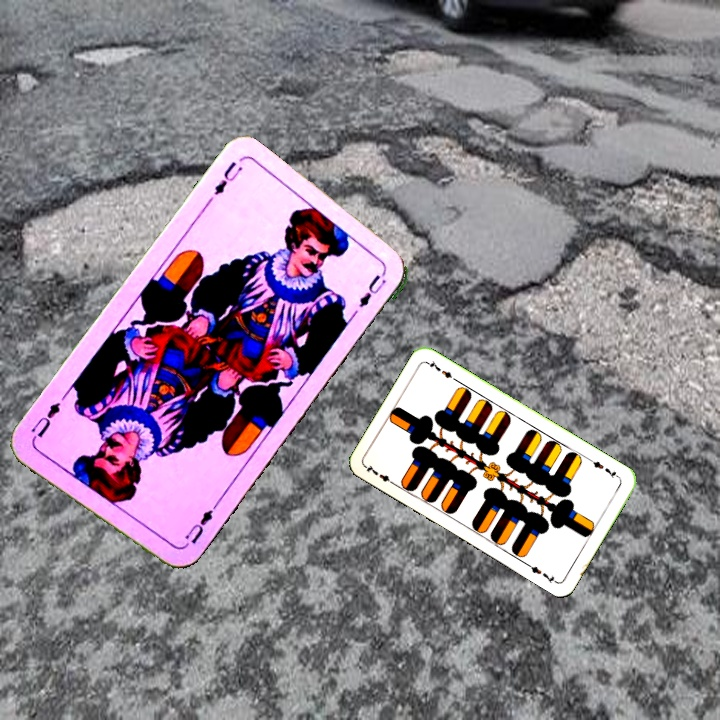E7: (361, 460, 398, 488), (585, 455, 622, 481)
EU: (169, 502, 219, 553), (210, 157, 246, 198)
